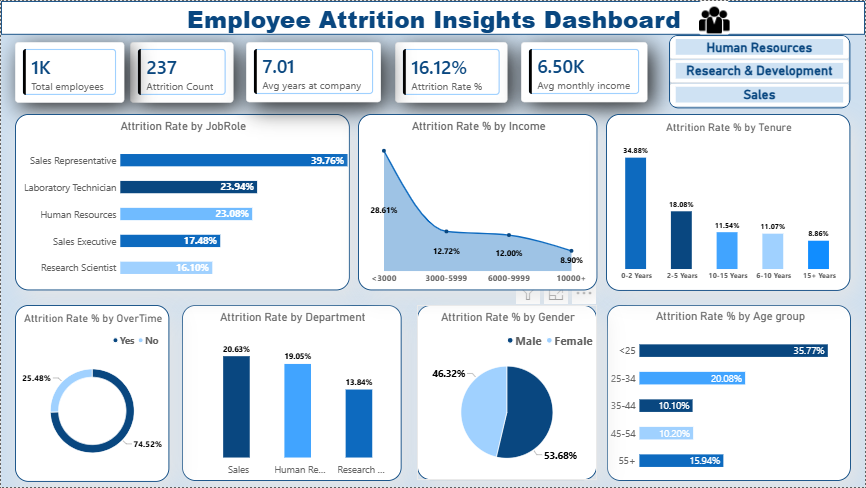

The dashboard page shown, as its layout file describes it:
{"tool":"powerbi","page":{"name":"Page 1","canvas":[1920,1080],"ordinal":0},"visuals":[{"type":"columnChart","title":"Attrition Rate by Department","fields":{"Y":["employee.Attrition Rate %"],"Category":["employee.Department"]},"box":[402.5,655,487.5,400],"z":0},{"type":"cardVisual","title":"Attribution Rate","fields":{"Data":["employee.Attrition Rate %"]},"box":[1262.5,90,305,147.5],"z":1000},{"type":"cardVisual","fields":{"Data":["employee.Attrition Count"]},"box":[612.5,87.5,277.5,150],"z":2000},{"type":"cardVisual","fields":{"Data":["employee.Total employee"]},"box":[285,90,280,150],"z":3000},{"type":"cardVisual","fields":{"Data":["Avg(employee.MonthlyIncome)"]},"box":[1607.5,87.5,280,150],"z":4000},{"type":"funnel","title":"Attrition Rate by JobRole","fields":{"Category":["employee.JobRole"],"Y":["employee.Attrition Rate %"]},"box":[995,267.5,892.5,357.5],"z":5000},{"type":"cardVisual","fields":{"Data":["Avg(employee.YearsAtCompany)"]},"box":[922.5,90,300,152.5],"z":6000},{"type":"donutChart","fields":{"Category":["employee.OverTime"],"Y":["employee.Attrition Rate %"]},"box":[30,665,350,390],"z":7000},{"type":"clusteredBarChart","fields":{"Category":["age sort.Age group","age sort.age sort"],"Y":["employee.Attrition Rate %"]},"box":[1352.5,675,535,390],"z":8000},{"type":"pieChart","fields":{"Category":["employee.Gender"],"Y":["employee.Attrition Rate %"]},"box":[925,675,387.5,390],"z":9000},{"type":"stackedAreaChart","title":"Attrition Rate % by tenure ","fields":{"Y":["employee.Attrition Rate %"],"Category":["Tenure bucket.tenure sort","employee.Tenure"]},"box":[30,260,930,365],"z":10000}]}

Visuals, with their boxes in screenshot pixels (x1, y1, x2, y2), scaled from the page's 1920x1080 canvas onto the 866x488 screenshot:
"Attrition Rate by Department" columnChart: (182,296,401,477)
"Attribution Rate" cardVisual: (569,41,707,107)
cardVisual - employee.Attrition Count: (276,40,401,107)
cardVisual - employee.Total employee: (129,41,255,108)
cardVisual - Avg(employee.MonthlyIncome): (725,40,851,107)
"Attrition Rate by JobRole" funnel: (449,121,851,282)
cardVisual - Avg(employee.YearsAtCompany): (416,41,551,110)
donutChart - employee.OverTime x employee.Attrition Rate %: (14,300,171,477)
clusteredBarChart - age sort.Age group x age sort.age sort: (610,305,851,481)
pieChart - employee.Gender x employee.Attrition Rate %: (417,305,592,481)
"Attrition Rate % by tenure " stackedAreaChart: (14,117,433,282)
